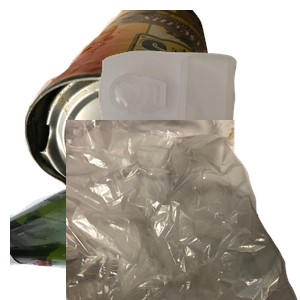glass: (10, 154, 246, 300)
metal: (22, 10, 251, 190)
plastic: (96, 48, 300, 179)
trash: (66, 120, 300, 300)
